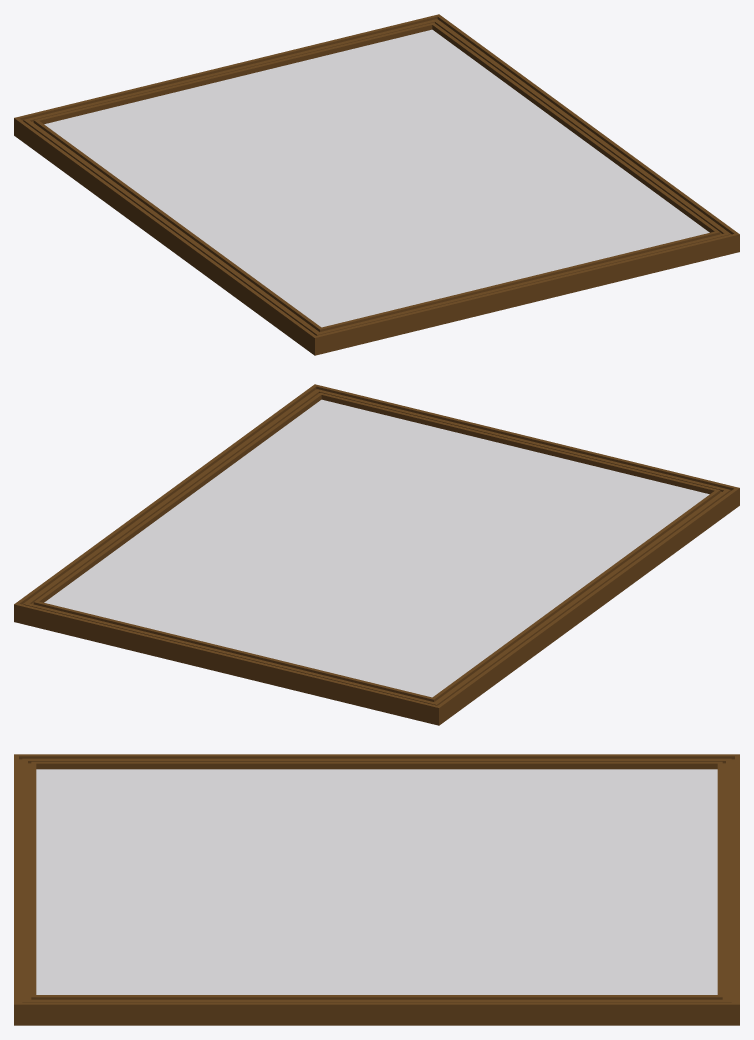
File: frame.fbx
3 views of the same model, one above another, from view 1: azimuth 30°, elevation 25°; view 2: azimuth 150°, elevation 25°; view 3: azimuth 270°, elevation 25° (orthographic). The views are drawn at different scales.
Parts seen in each view (by area): view 1: frame.001, frame; view 2: frame.001, frame; view 3: frame.001, frame.
Boxes of the visible parts, <box> form: frame.001: <box>44,29,709,327</box>; frame: <box>14,14,739,355</box>; frame.001: <box>44,399,709,697</box>; frame: <box>14,384,739,725</box>; frame.001: <box>36,769,717,994</box>; frame: <box>14,754,739,1025</box>.
Bounding box in the file's own units: 1.63 × 0.0647 × 2.
